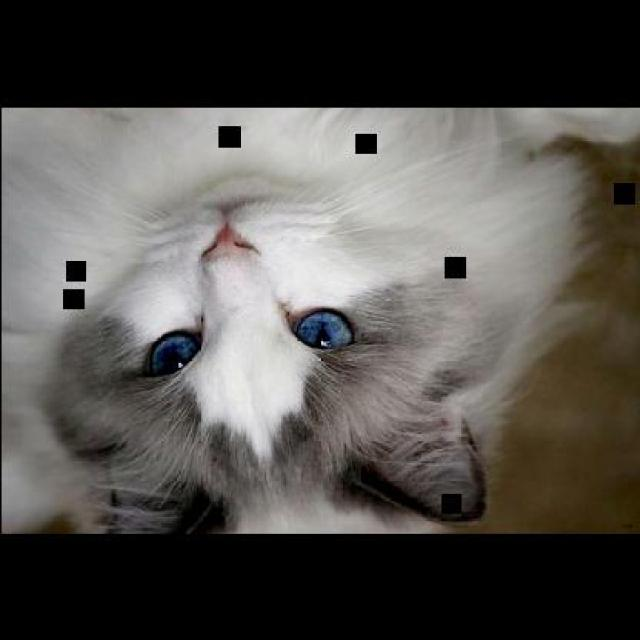unauthorized: (0, 106, 638, 533)
